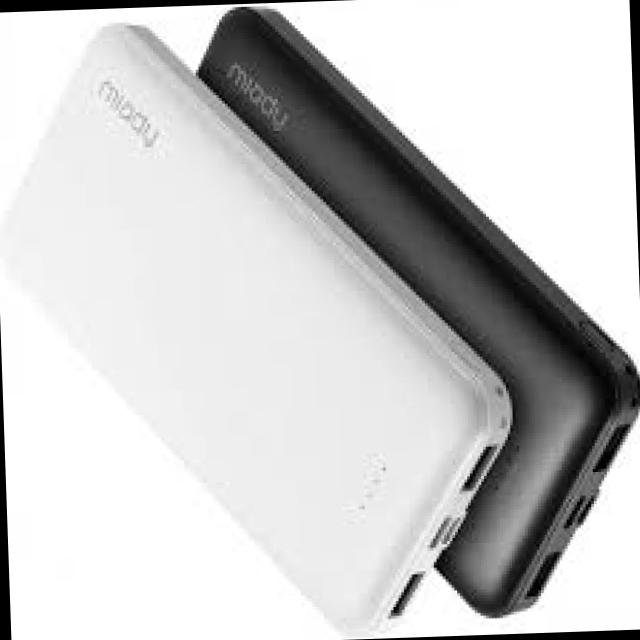power_bank: (0, 0, 522, 640), (187, 0, 640, 626)
